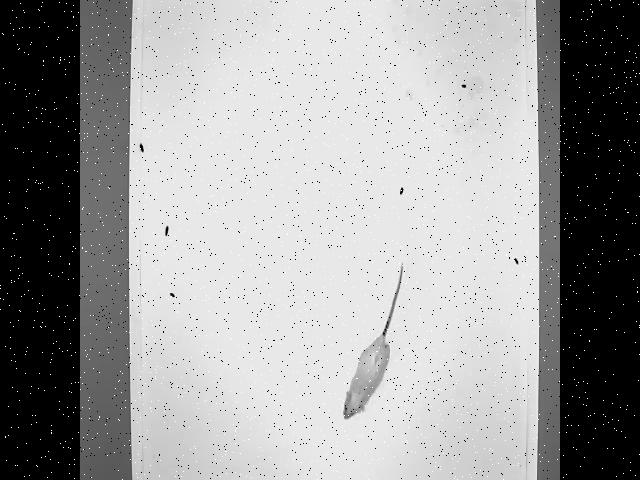Tikus: (340, 257, 410, 423)
